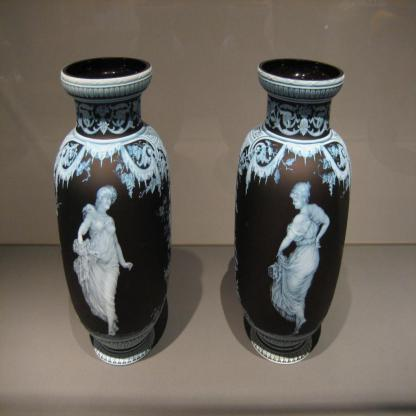vase: (52, 54, 172, 364), (235, 56, 352, 365), (235, 56, 350, 365)
